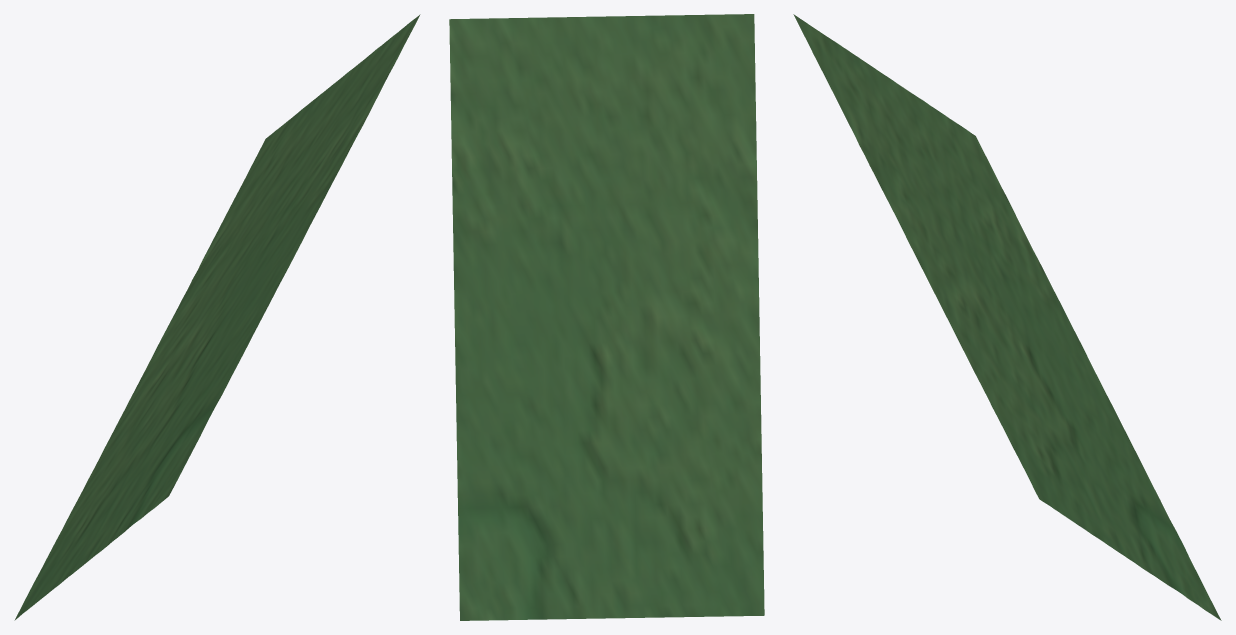
The picture shows the model from 3 angles, left to right: view 1: azimuth 30°, elevation 25°; view 2: azimuth 150°, elevation 25°; view 3: azimuth 270°, elevation 25°; orthographic projection. The views are drawn at different scales.
Bounding box in the file's own units: 9813 × 13438 × 9467.
